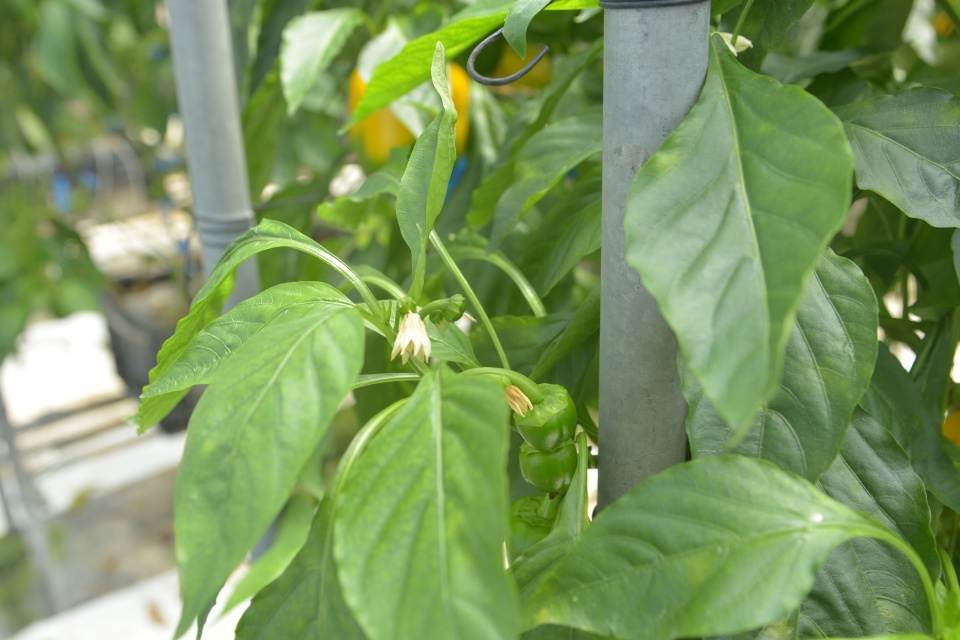flower: (388, 309, 432, 368)
fruit: (343, 48, 474, 164)
immature: (503, 492, 591, 569), (513, 379, 580, 453), (518, 438, 578, 495)
